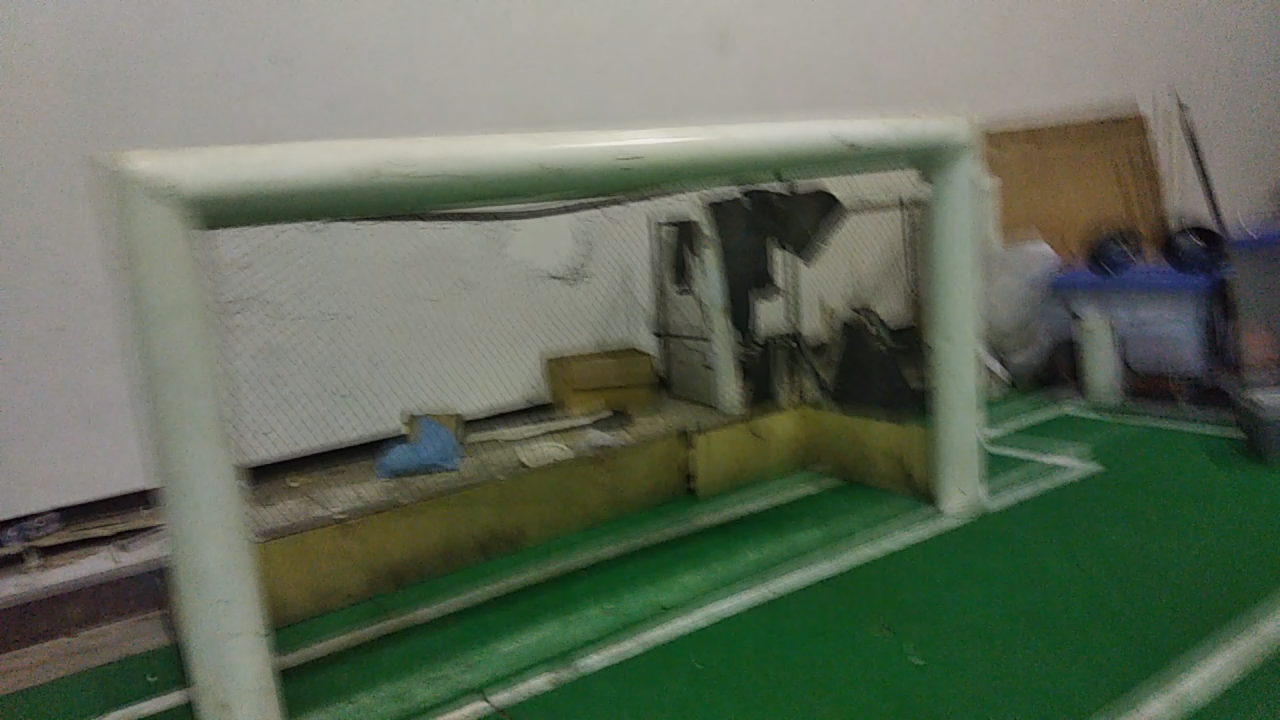gawang: (72, 100, 1015, 715)
